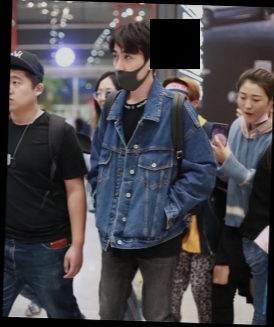mask_weared_incorrect: (108, 48, 146, 92), (236, 89, 268, 124)
without_mask: (9, 74, 32, 112), (96, 77, 116, 111)
